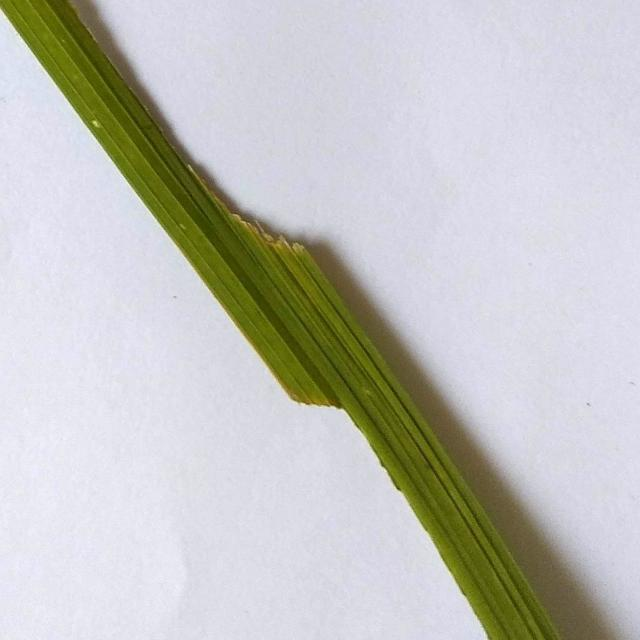Rice_Healthy: (0, 0, 560, 640)
